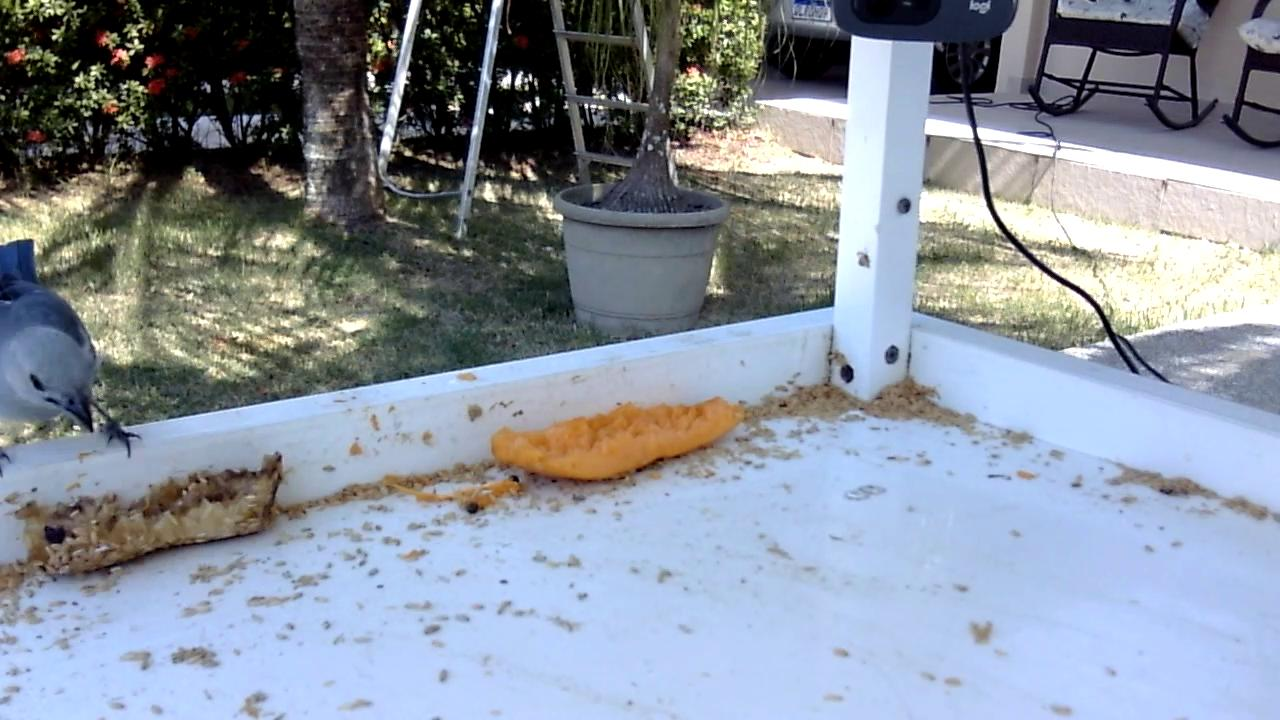sanhaco_da_amazonia: (1, 237, 145, 485)
